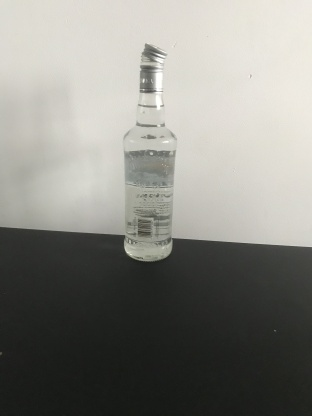nakretka: (138, 41, 168, 94)
